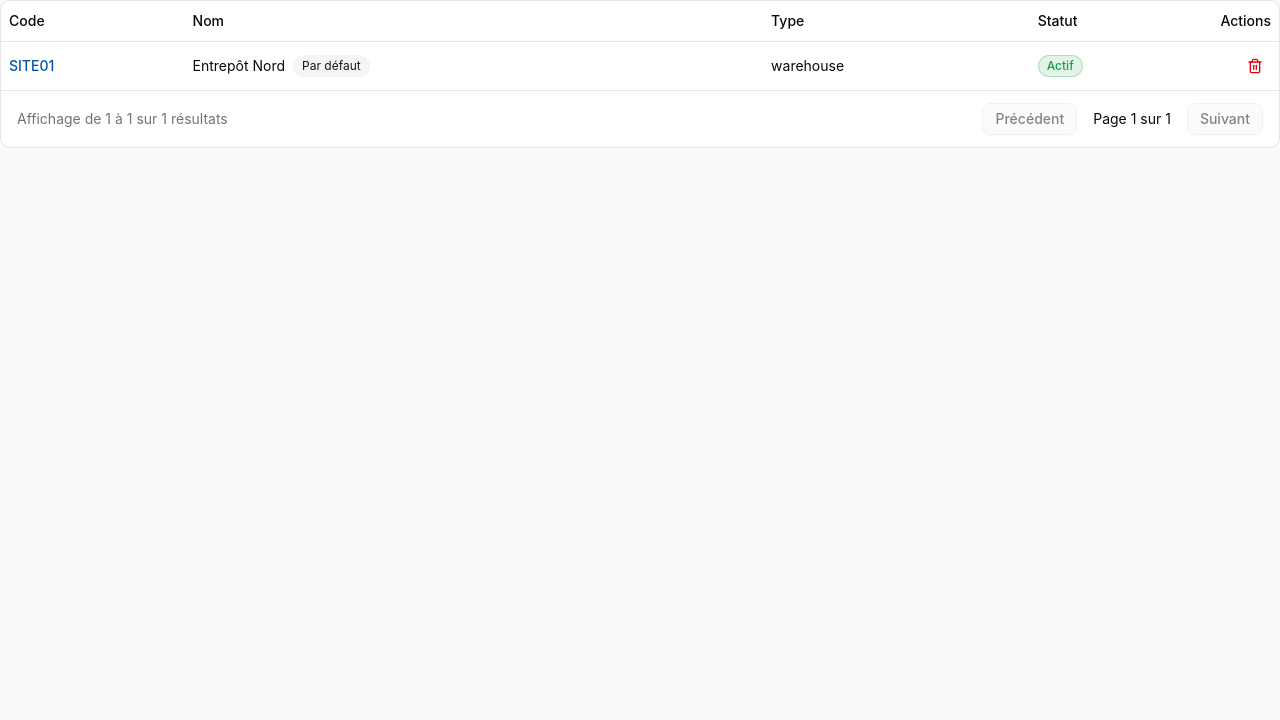
Test: CustomerSitesTab › actions non autorisées › propose la suppression et demande confirmation avec le droit
The image size is (1280, 720).
Expected: the text "Entrepôt Nord" is shown, [193, 56, 285, 74]
Click the button named "Supprimer". click: [1255, 66]
box: [1239, 50, 1271, 82]
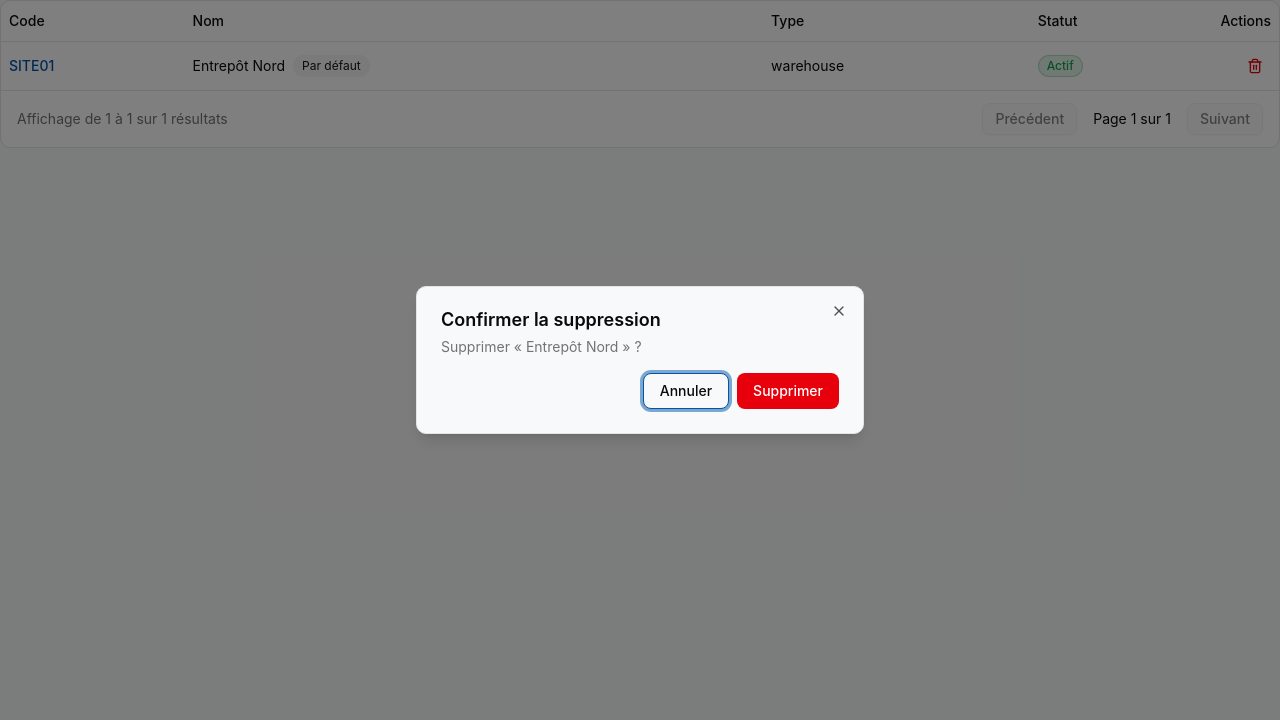
Expected: the dialog shows "Entrepôt Nord", [441, 338, 642, 355]
Expected: the dialog shows "Confirmer la suppression", [441, 309, 661, 330]
